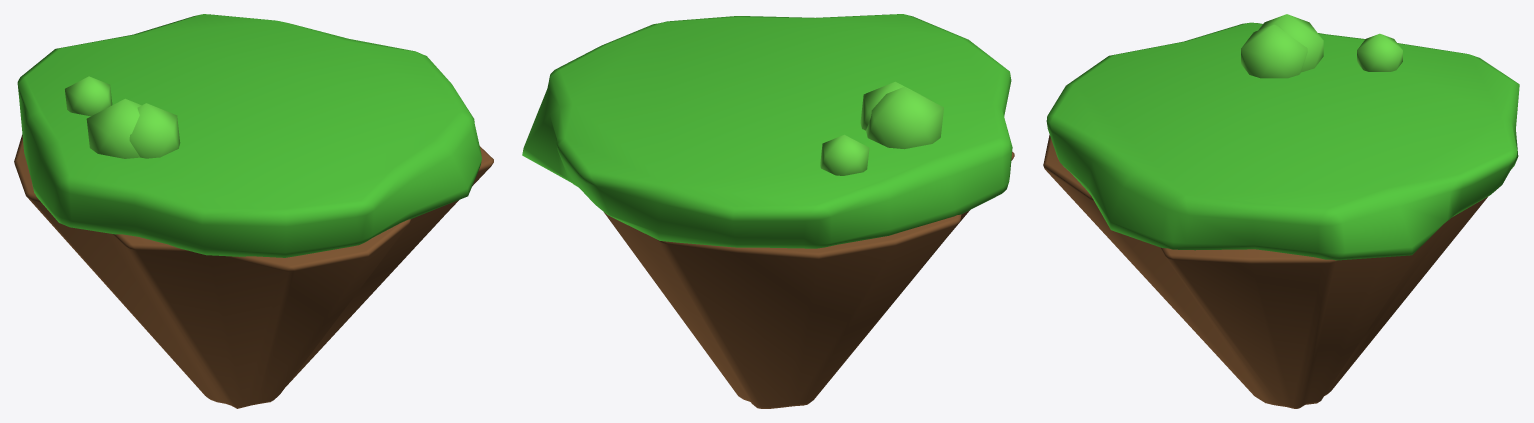
The model's file is island_a.glb.
3 views of the same model, side by side, from view 1: azimuth 30°, elevation 25°; view 2: azimuth 150°, elevation 25°; view 3: azimuth 270°, elevation 25° (orthographic). The views are drawn at different scales.
Visible parts, largest first — view 1: island_a; view 2: island_a; view 3: island_a.
Boxes of the visible parts, left/top/right/bottom form: island_a: left=14, top=14, right=493, bottom=408; island_a: left=522, top=14, right=1014, bottom=408; island_a: left=1043, top=14, right=1519, bottom=408.
Bounding box in the file's own units: 1.99 × 1.53 × 2.05.
